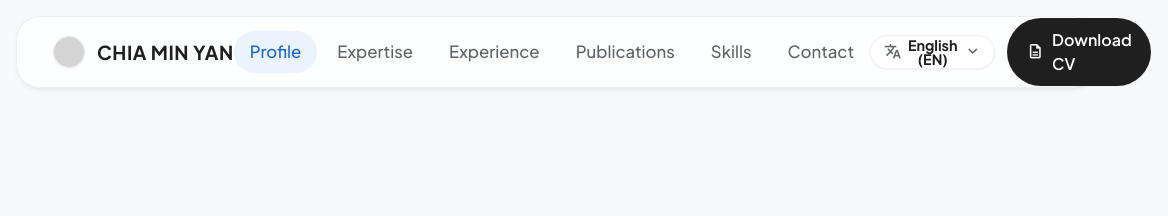
Test: HeaderComponent › language dropdown › lists the 3 supported languages and marks only the current one
This screenshot has width=1168, height=216.
What coordinates should you click on to do the following:
click the button with class "lang-dropdown-trigger"
I would click on:
 (933, 52)
Its box is [870, 35, 995, 69].
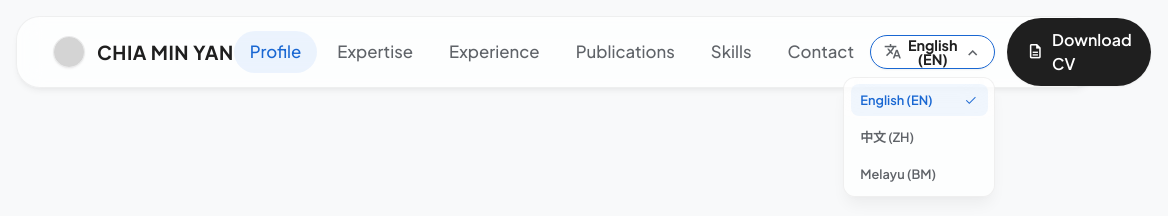
Check: the number of buttons with class "selected" is 1, box [851, 84, 988, 116]
Check: the number of icons with class "check-icon" is 1, box [963, 93, 978, 108]
